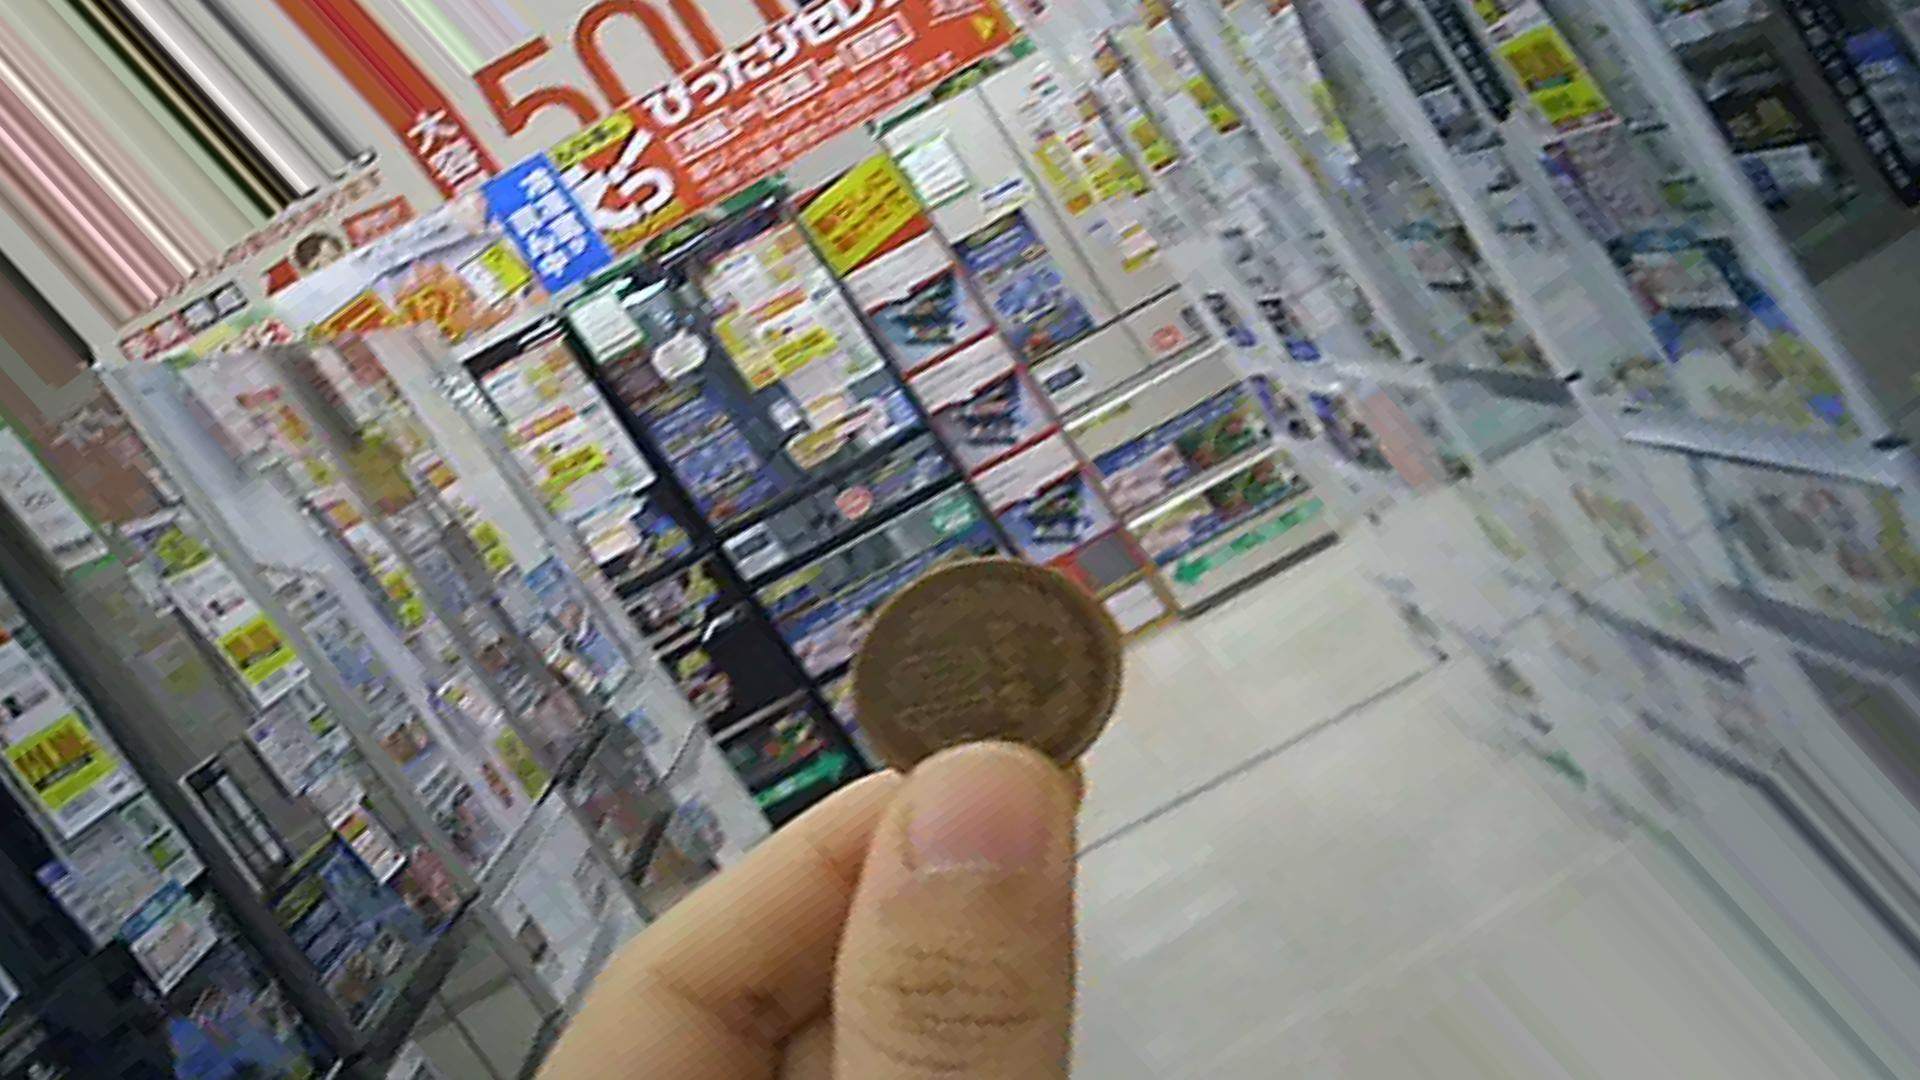10 Yen: (849, 545, 1116, 820)
